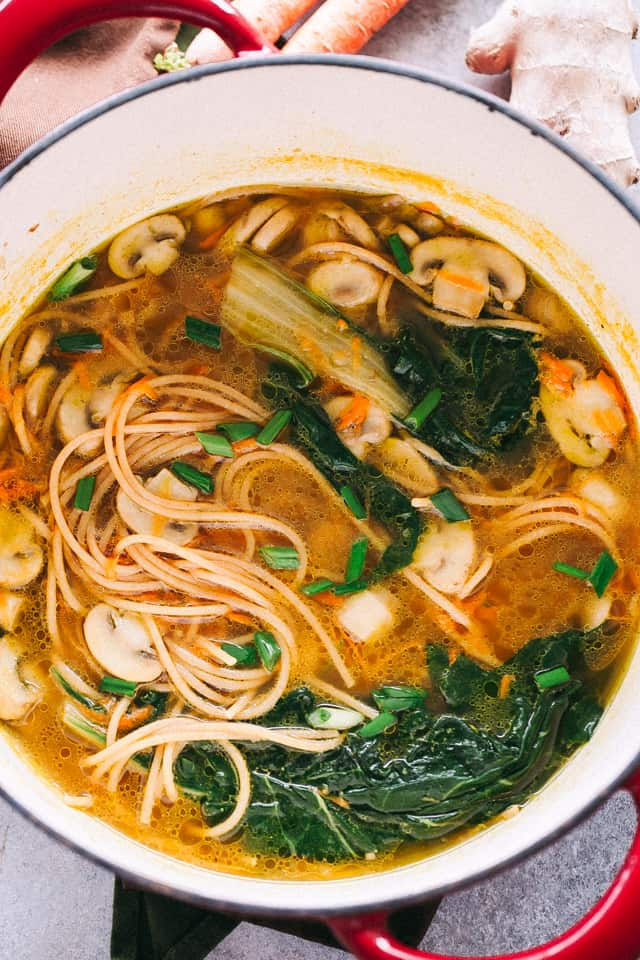Soba: (2, 206, 626, 832)
